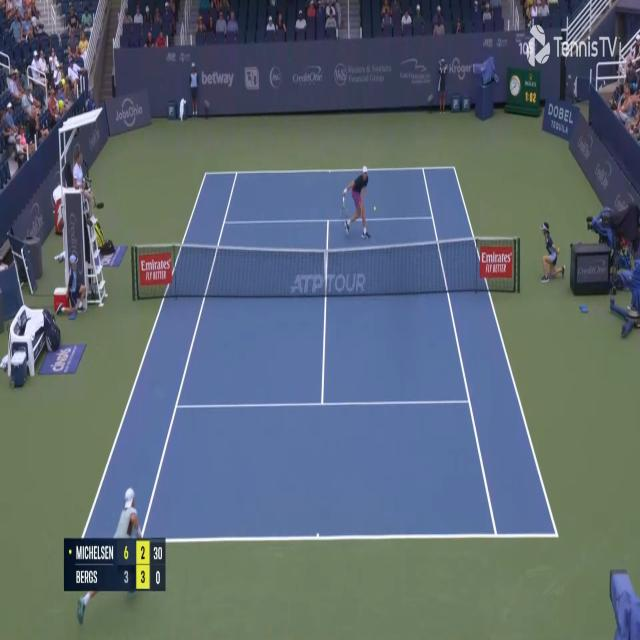tennis-player: (74, 483, 146, 627), (340, 160, 374, 244)
